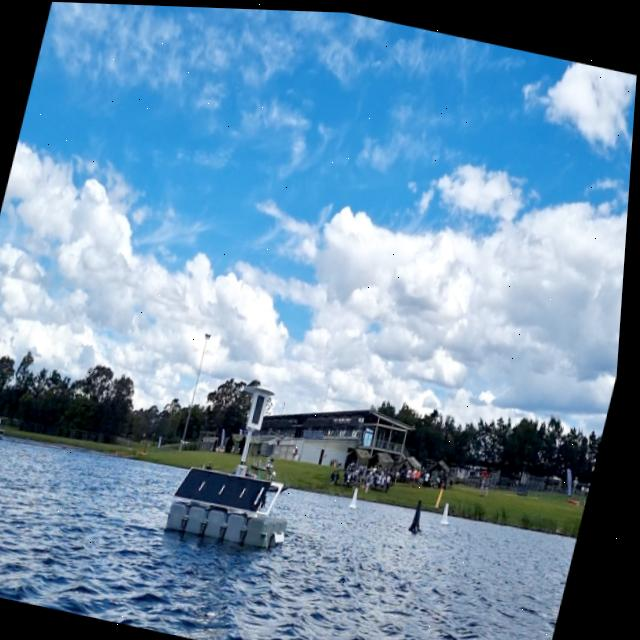led: (253, 388, 274, 427)
